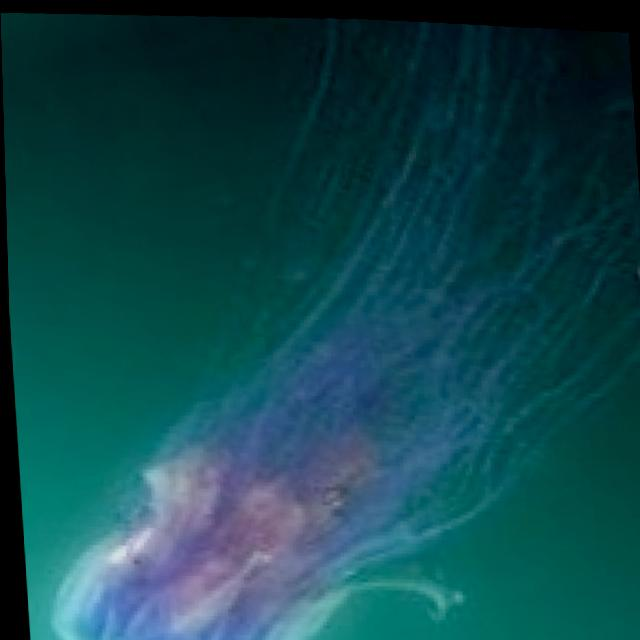Jellyfish: (3, 0, 640, 640)
